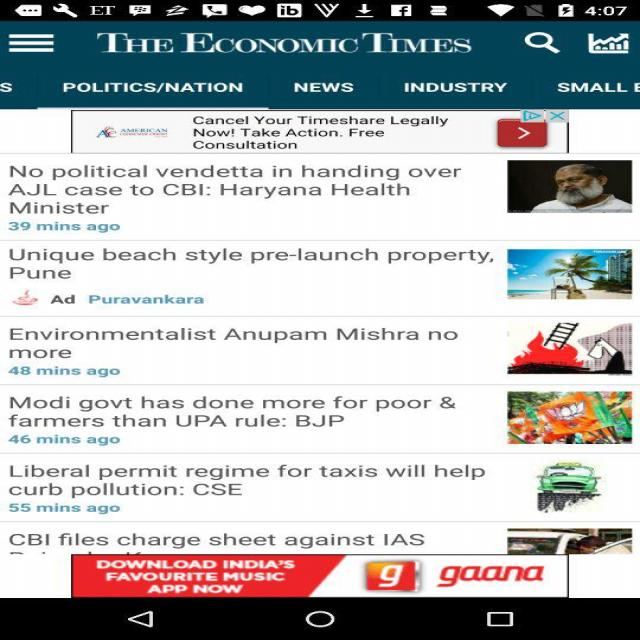image: (452, 145, 640, 637)
text: (8, 153, 484, 549)
